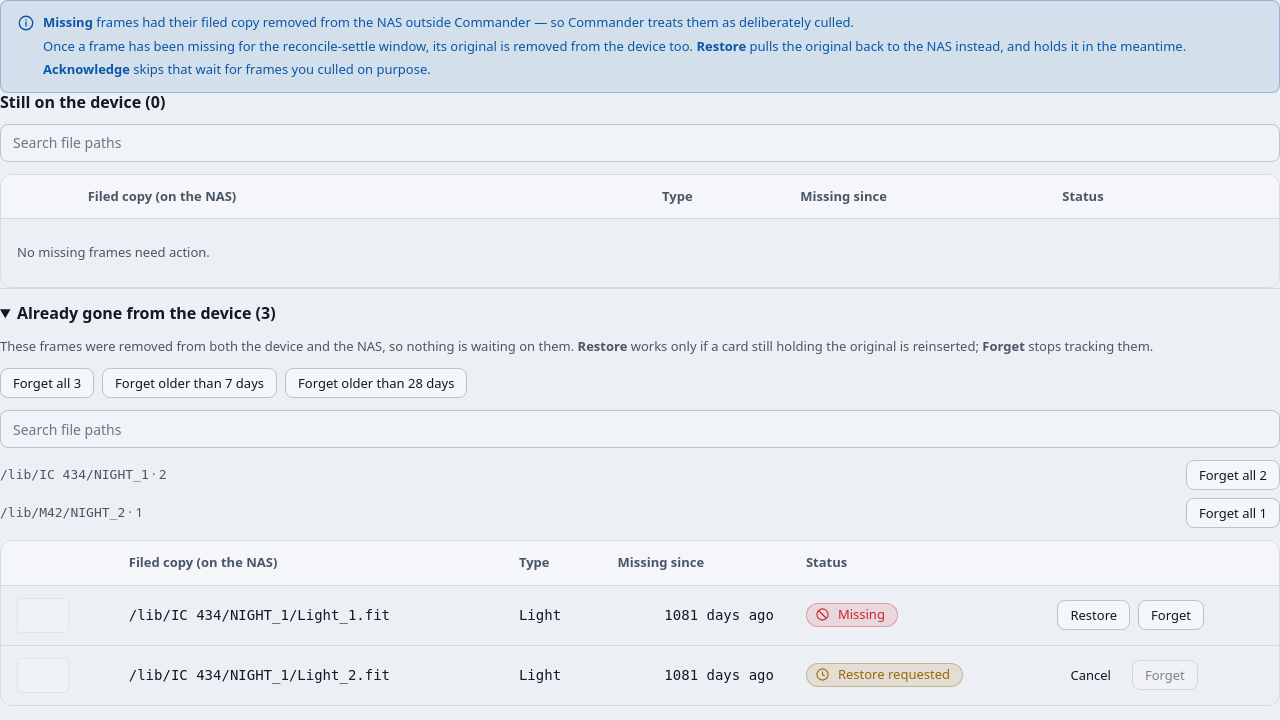
Test case: MissingFrames › Forget › closes the dialog on a refused token and says so
Click the button "Forget all 3".
click(47, 383)  # box [0,368,94,398]
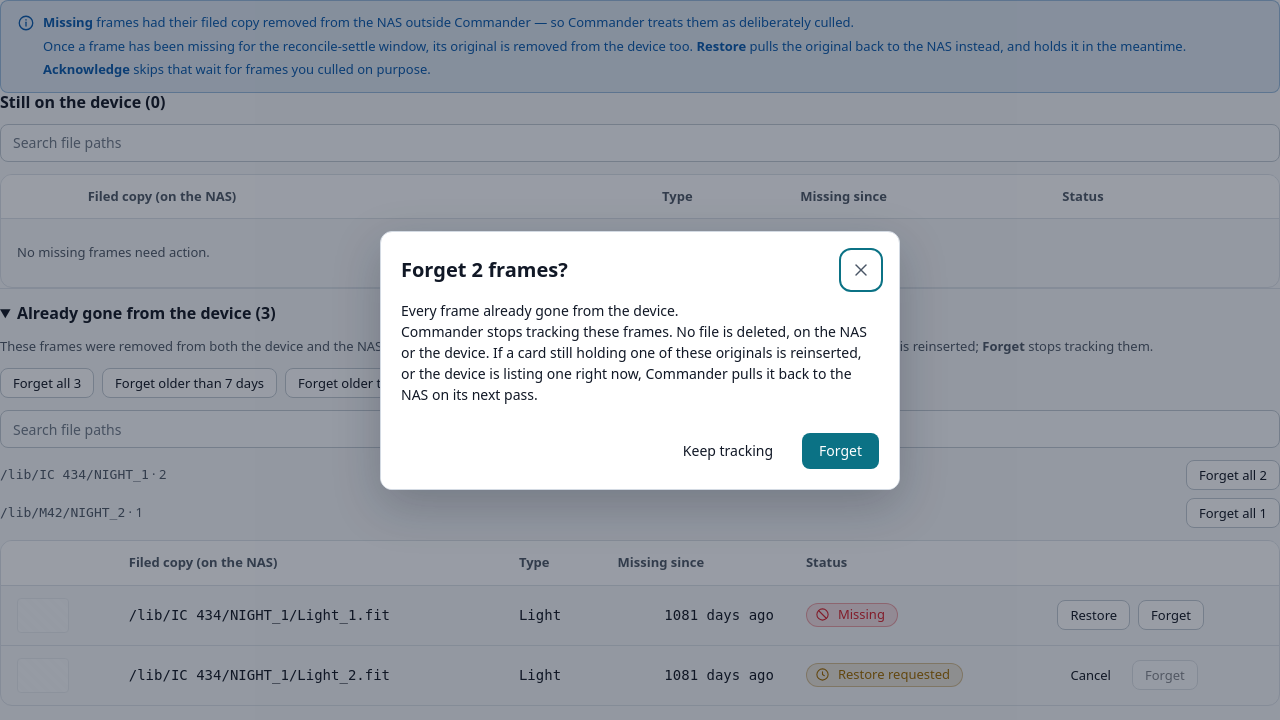
Click the button "Forget".
click(840, 450)  # box [802,432,879,468]
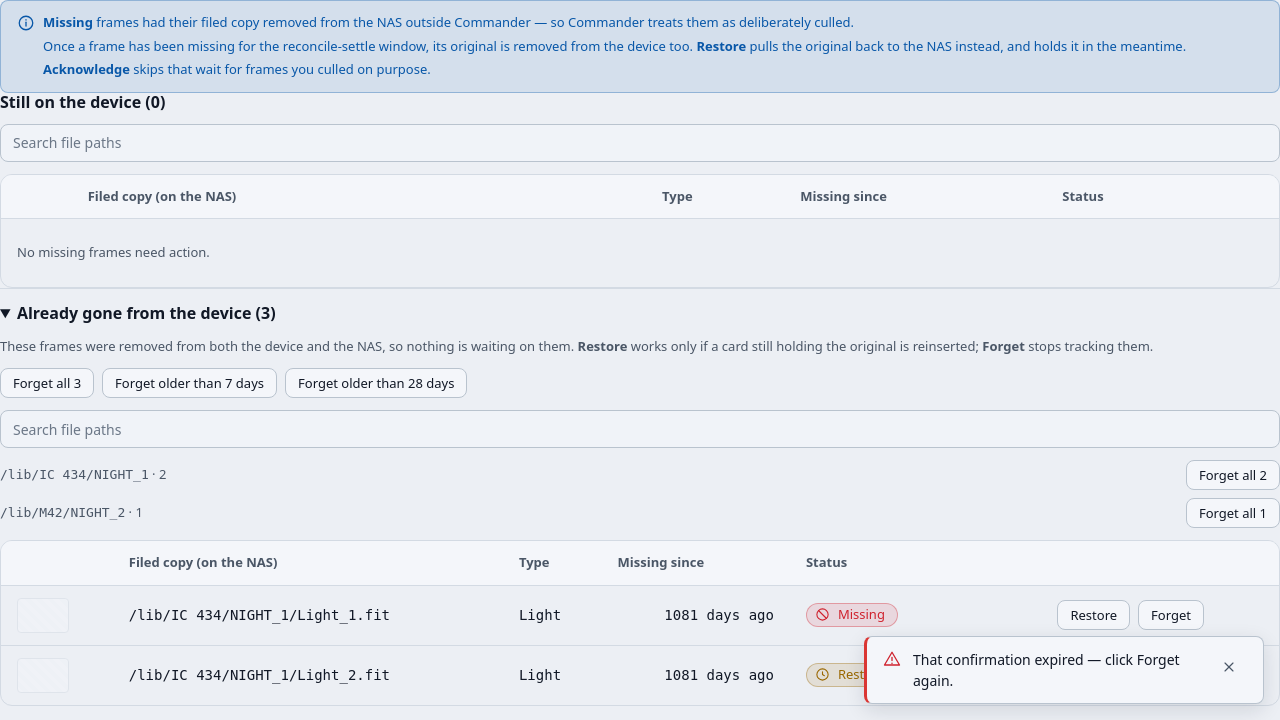
Expected: the dialog is gone
Expected: the message shows "That confirmation expired", [913,650,1180,690]
